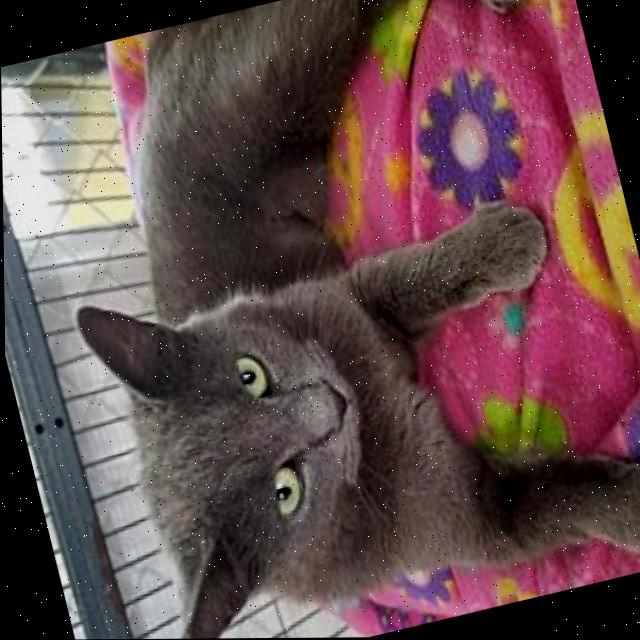Russian Blue: (5, 0, 640, 640)
